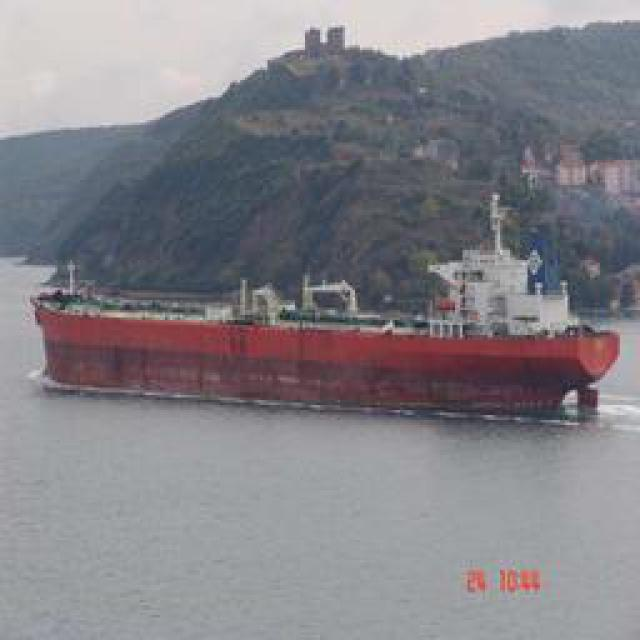Ship: (22, 275, 625, 420)
